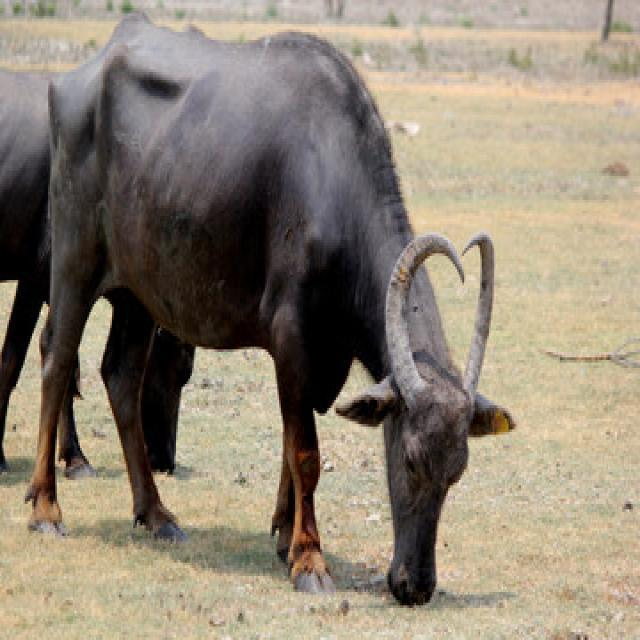Buffalo: (22, 8, 518, 605)
